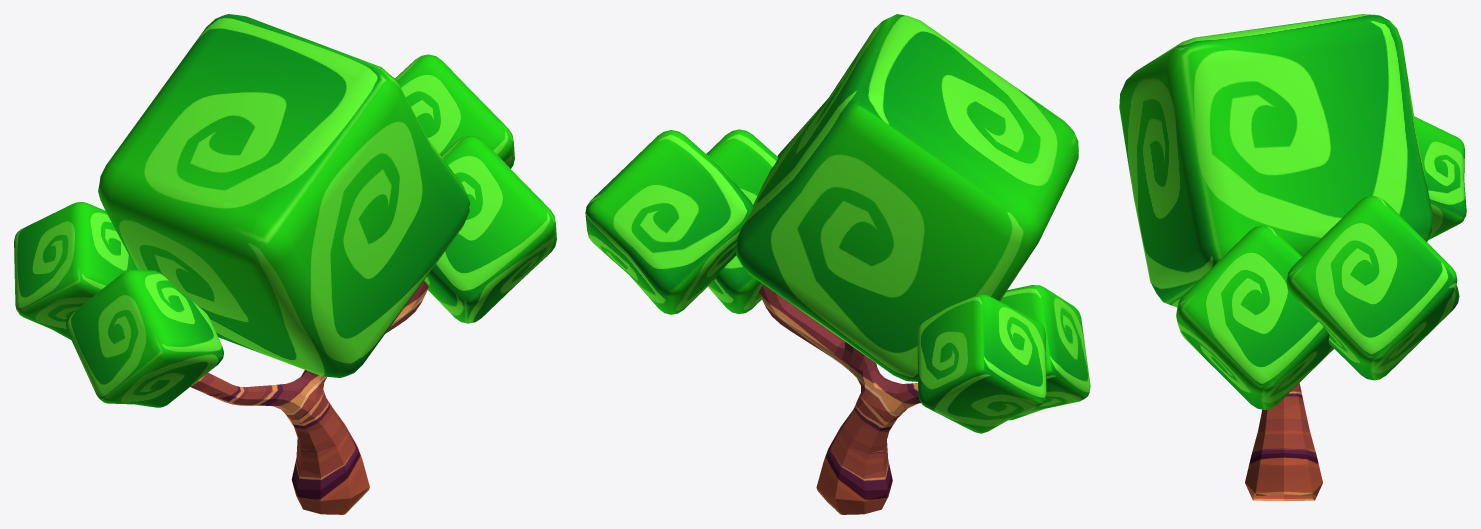
File: tree1.fbx
3 renders of one model, left to right at view 1: azimuth 30°, elevation 25°; view 2: azimuth 150°, elevation 25°; view 3: azimuth 270°, elevation 25°, orthographic. The views are drawn at different scales.
Visible parts, largest first — view 1: tree; view 2: tree; view 3: tree.
Boxes of the visible parts, x1,y1,x2,y2 form: tree: (14, 14, 556, 514); tree: (585, 14, 1090, 514); tree: (1119, 14, 1466, 500).
Bounding box in the file's own units: 85.55 × 80.88 × 54.63.
